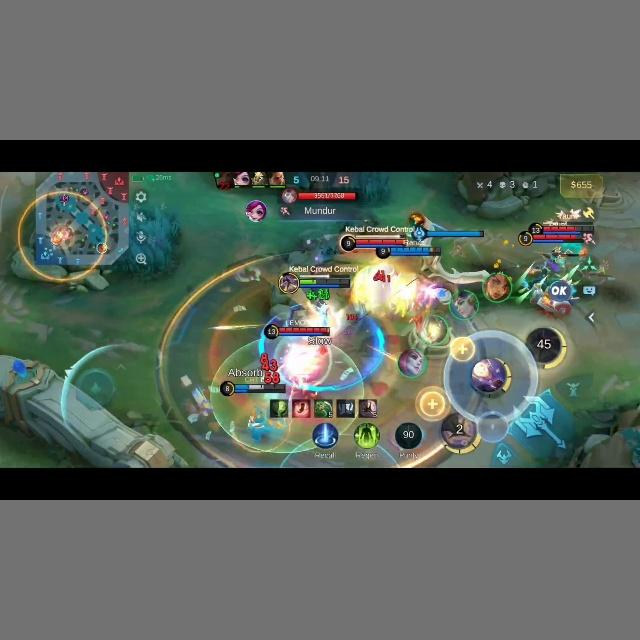hp_enemy: (338, 234, 436, 252), (516, 223, 590, 246), (274, 324, 329, 336), (299, 190, 358, 200)
hp_self: (280, 273, 352, 292), (218, 380, 294, 397), (377, 248, 441, 259), (429, 231, 484, 239)
